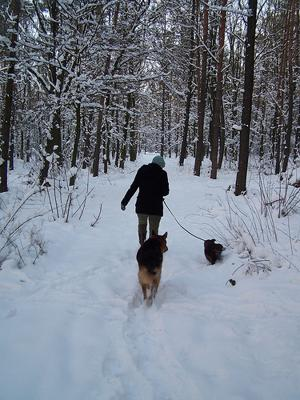person: (120, 155, 170, 256)
